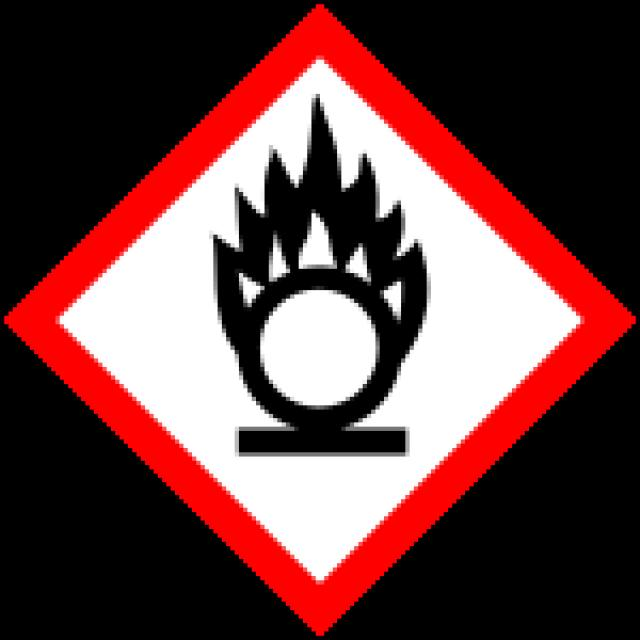GHS03- Oxidizing: (4, 4, 640, 640)
